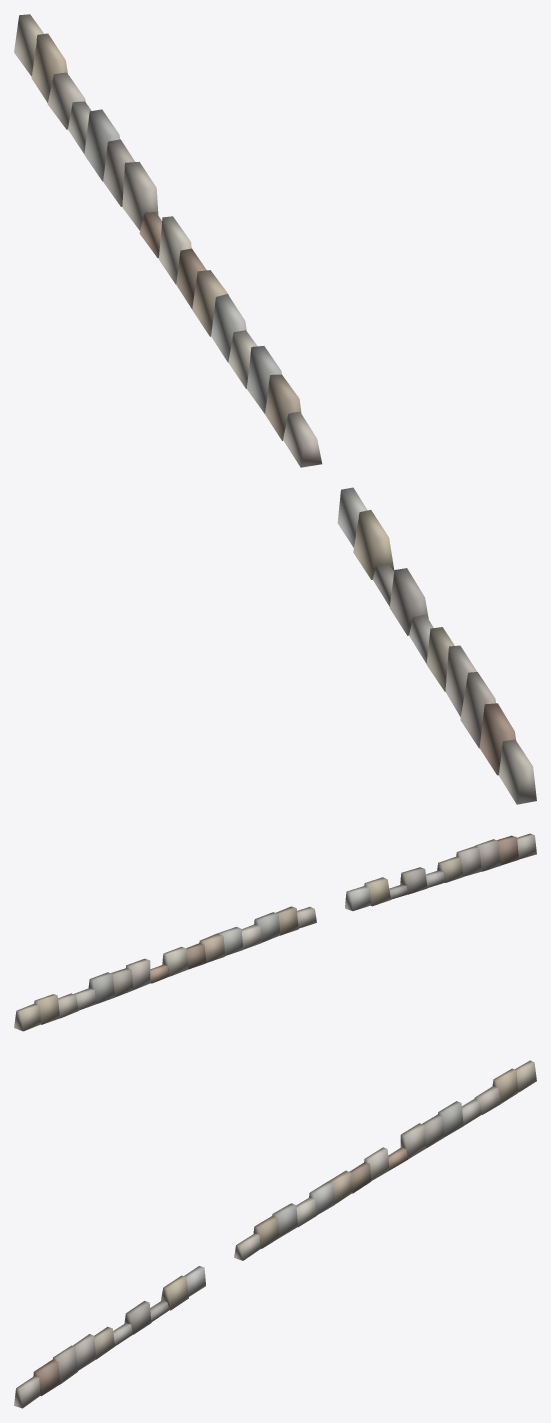
The model's file is farm_-41_-38_far.glb.
3 views of the same model, one above another, from view 1: azimuth 30°, elevation 25°; view 2: azimuth 150°, elevation 25°; view 3: azimuth 330°, elevation 25° (orthographic). The views are drawn at different scales.
Visible parts, largest first — view 1: geometry_0; view 2: geometry_0; view 3: geometry_0.
Part boxes in pixels (x1,y1,x2,y2): geometry_0: [14, 14, 536, 804]; geometry_0: [14, 833, 536, 1031]; geometry_0: [14, 1060, 536, 1408].
Bounding box in the file's own units: 8.81 × 5.82 × 43.18.
